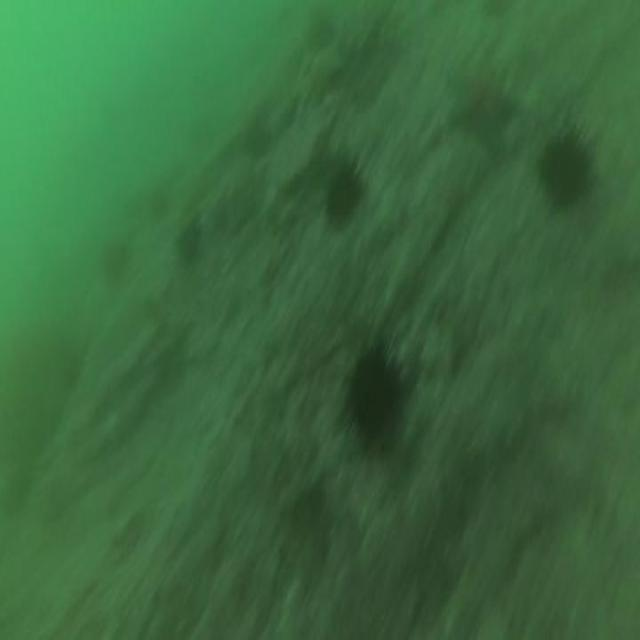echinus: (348, 357, 401, 446), (544, 133, 590, 204), (328, 174, 364, 226), (175, 218, 202, 267)
starfish: (452, 66, 516, 150)
